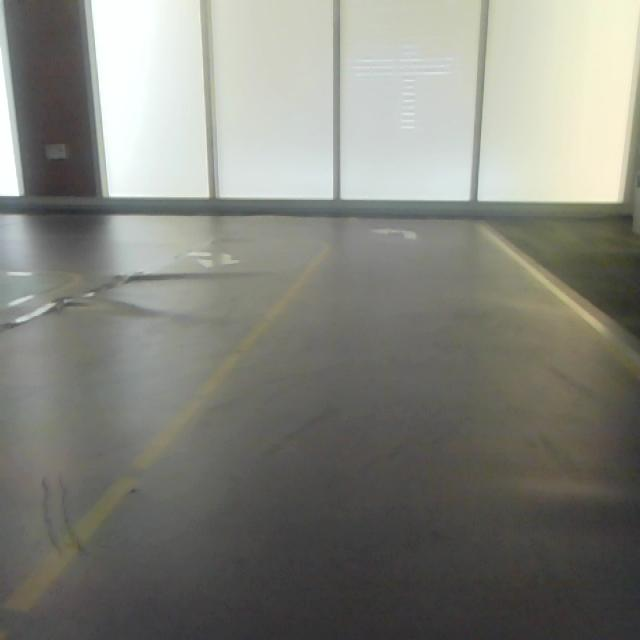left_lane: (1, 251, 323, 640)
right_lane: (483, 229, 640, 379)
